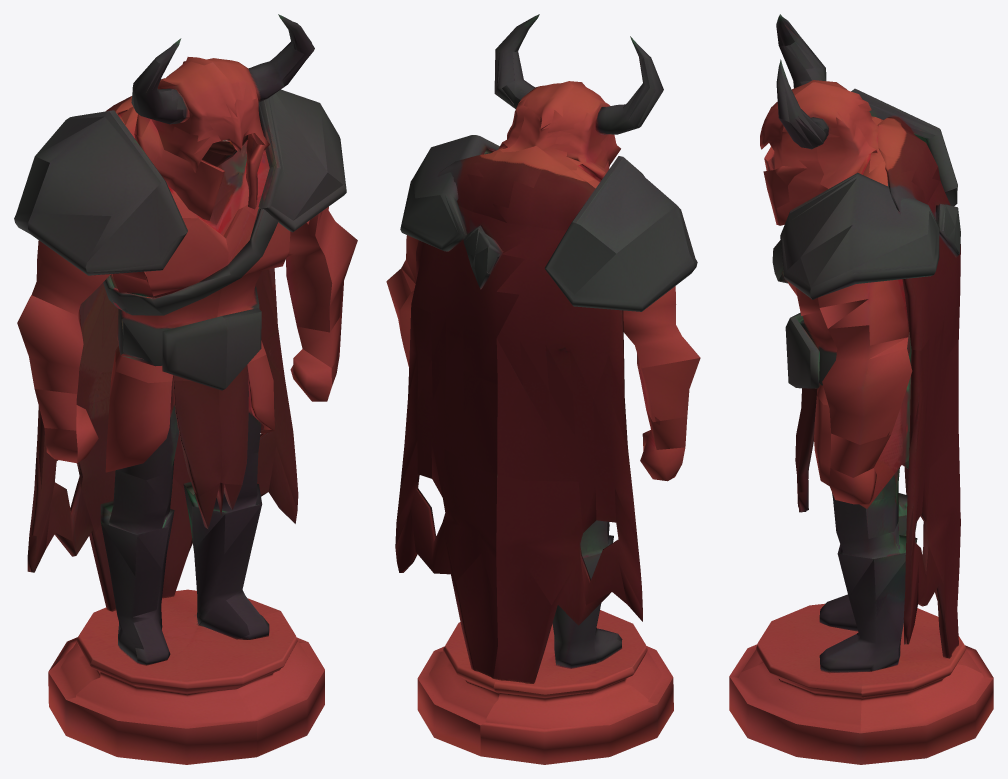
The model's file is Meshy_AI_Crimson_Horned_Warlor_0726160902_texture.glb.
3 renders of one model, left to right at view 1: azimuth 30°, elevation 25°; view 2: azimuth 150°, elevation 25°; view 3: azimuth 270°, elevation 25°, orthographic. The views are drawn at different scales.
Visible parts, largest first — view 1: mesh_node; view 2: mesh_node; view 3: mesh_node.
Boxes of the visible parts, bbox=[...] form: mesh_node: bbox=[14, 14, 357, 764]; mesh_node: bbox=[386, 14, 700, 764]; mesh_node: bbox=[729, 14, 993, 764].
Bounding box in the file's own units: 0.501 × 1 × 0.3555.
1 material, 1 textured.
